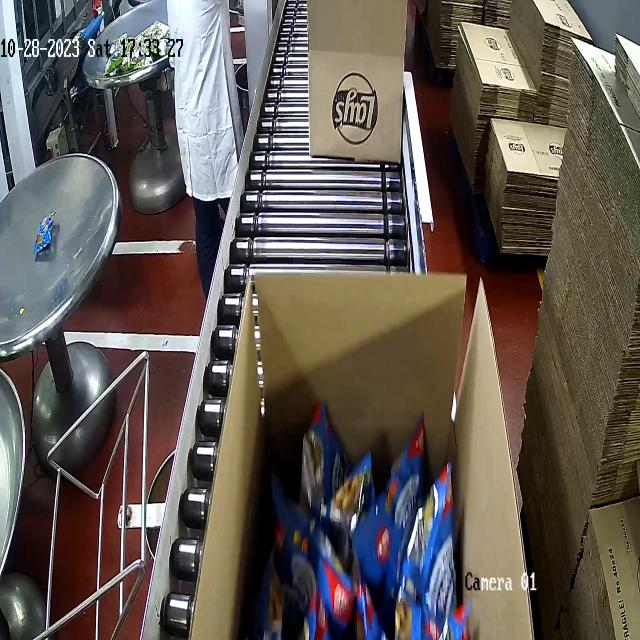PAPRIKA: (248, 417, 458, 640)
